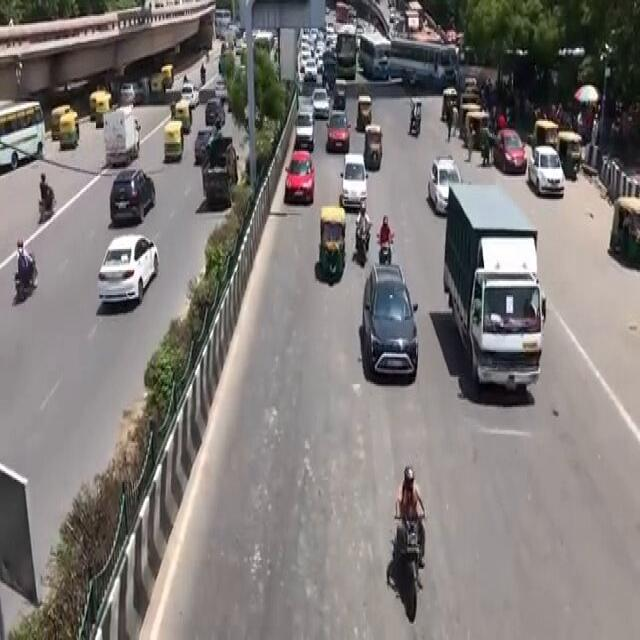three_wheeler: (313, 190, 346, 294)
